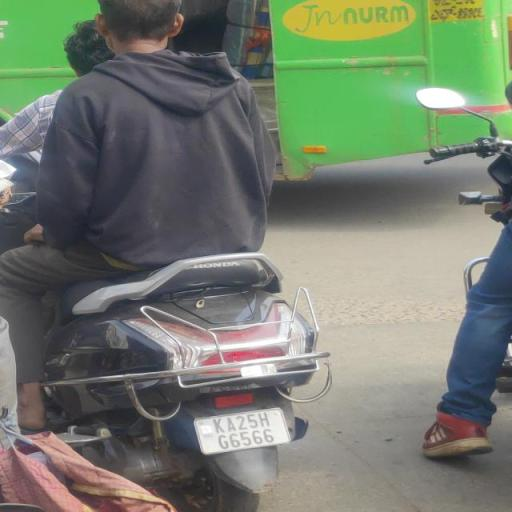bike: (5, 0, 350, 512)
numberplate: (191, 400, 290, 456)
withouthelmet: (102, 2, 181, 43), (71, 22, 110, 70)
